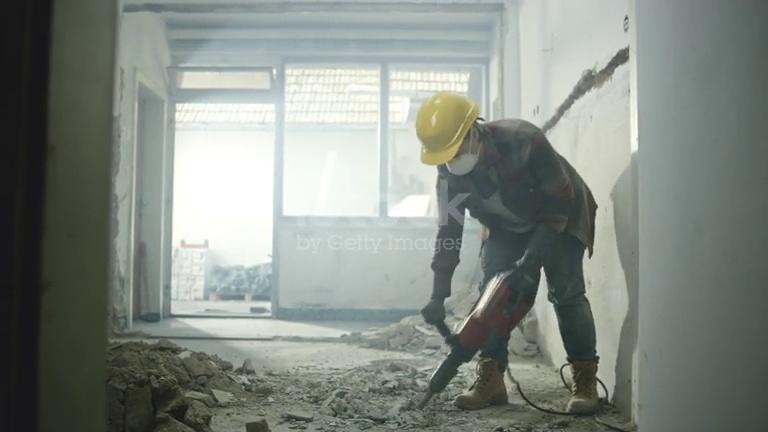helmet: (415, 90, 479, 165)
mask: (442, 151, 478, 176)
person: (418, 90, 605, 415)
